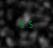five: (26, 20, 32, 27)
six: (19, 20, 25, 28)
